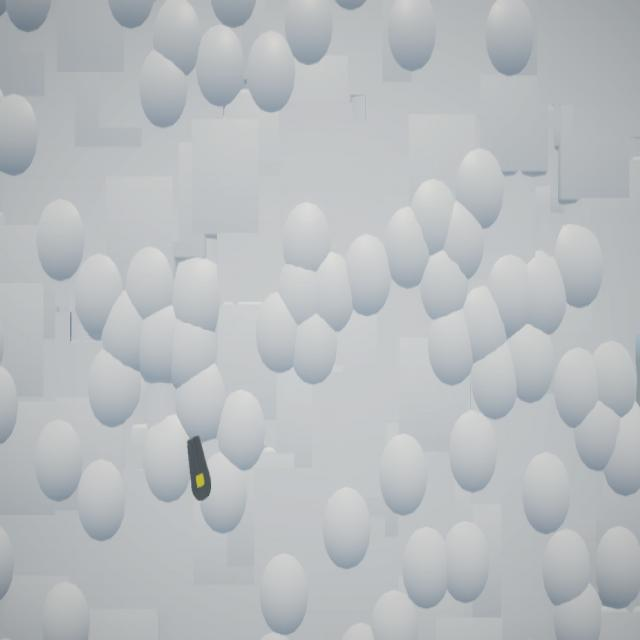handle_folk: (188, 436, 213, 502)
